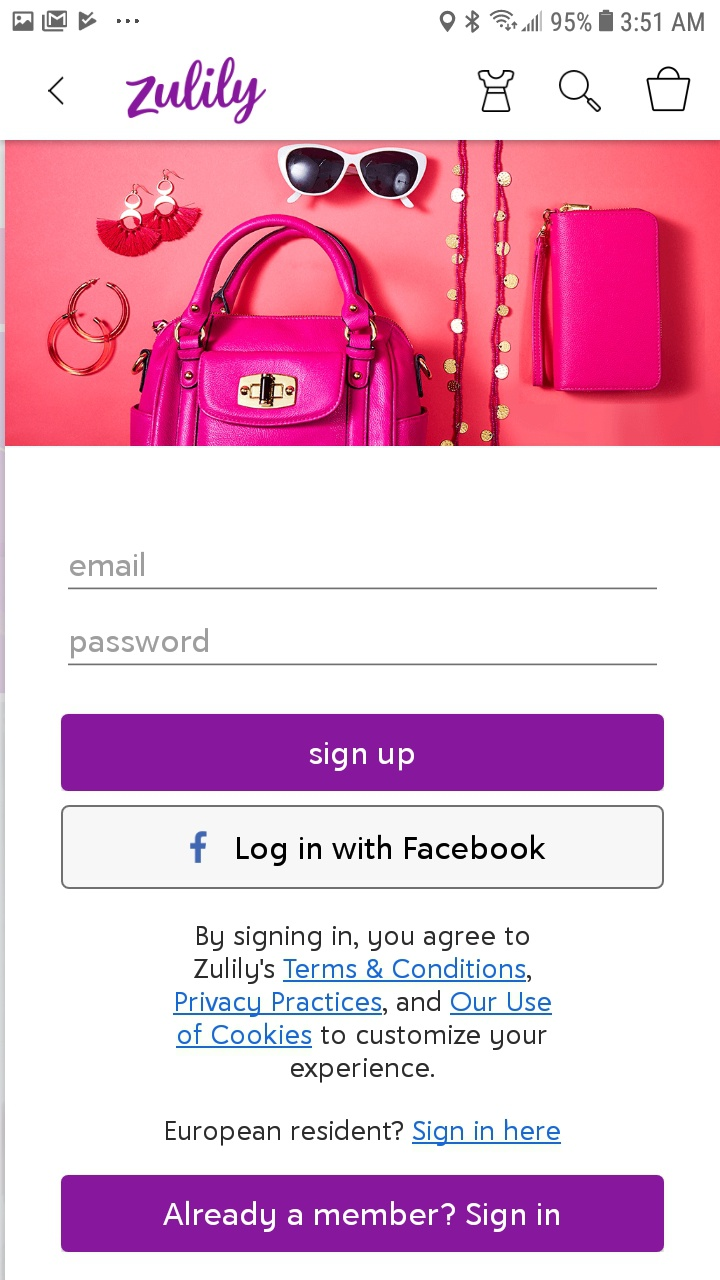EditText: (68, 551, 658, 591), (68, 628, 658, 666)
Icon: (646, 67, 691, 113), (559, 70, 602, 113), (190, 829, 207, 864), (48, 76, 65, 106)
Image: (6, 141, 720, 447), (126, 57, 267, 126), (478, 70, 515, 113)
Text: (173, 926, 553, 1084), (166, 1118, 562, 1147), (71, 628, 209, 660), (71, 552, 146, 577)
TextButton: (61, 805, 665, 890), (61, 714, 665, 792), (62, 1175, 664, 1252)
UpperTaskBar: (1, 1, 720, 35)
